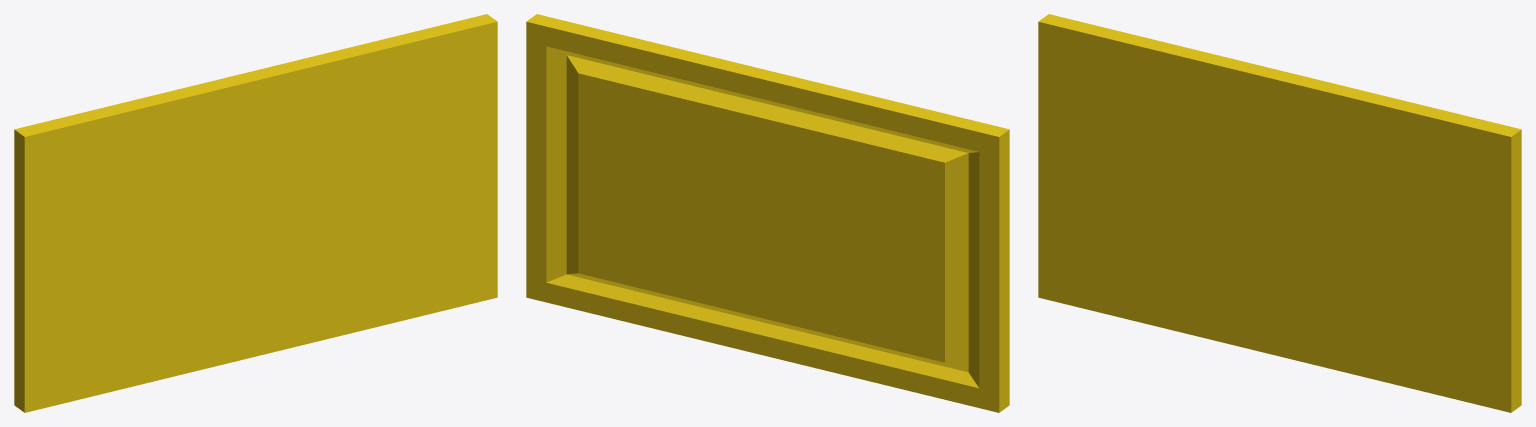
Rendered from piaPorta.FBX.
3 renders of one model, left to right at view 1: azimuth 30°, elevation 25°; view 2: azimuth 150°, elevation 25°; view 3: azimuth 330°, elevation 25°, orthographic.
Parts seen in each view (by area): view 1: Box002; view 2: Box002; view 3: Box002.
Boxes of the visible parts, box(x1,y1,x2,y2) form: Box002: box(14, 14, 497, 412); Box002: box(526, 14, 1009, 412); Box002: box(1038, 14, 1521, 412).
Bounding box in the file's own units: 84.24 × 46.97 × 3.55.
